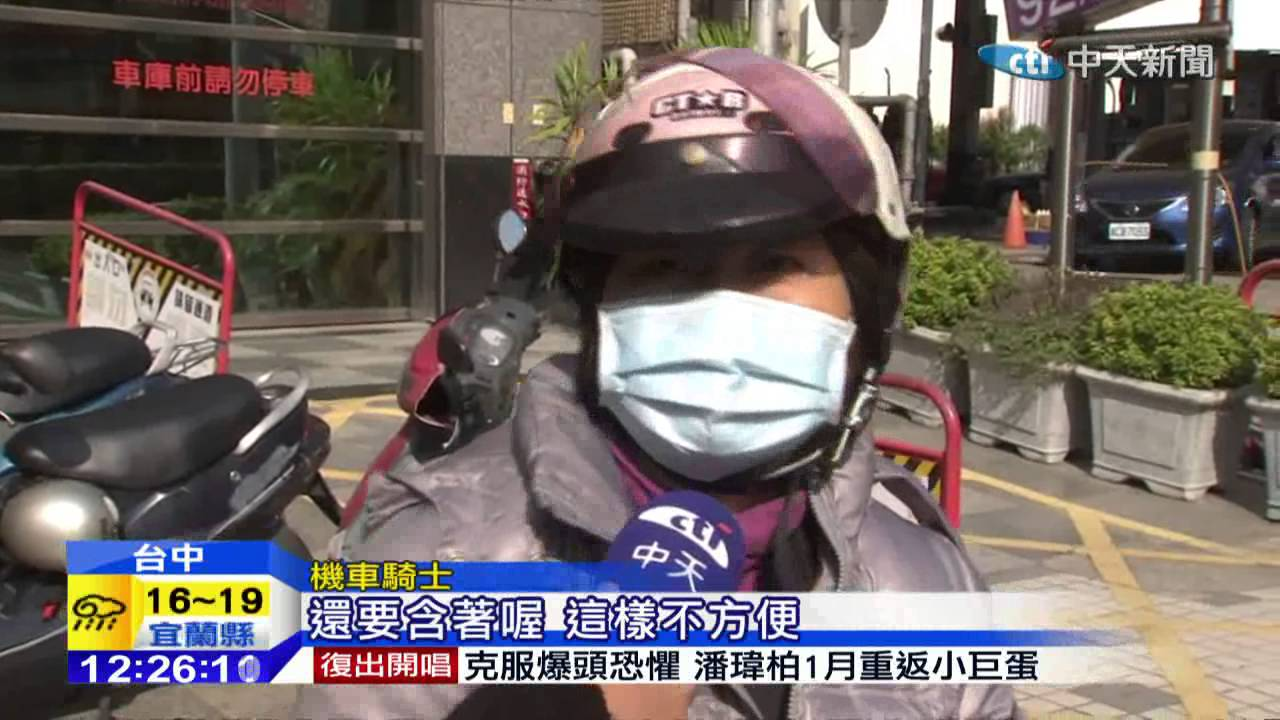helmet: (540, 85, 917, 306)
